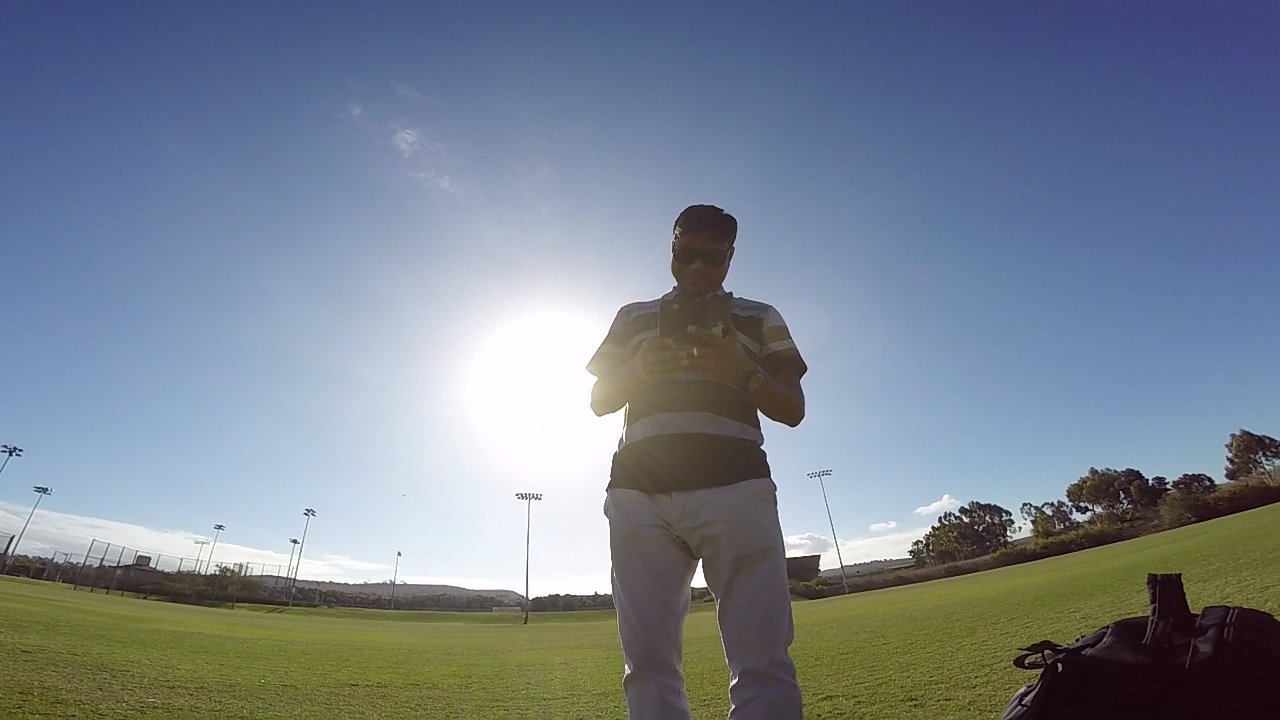person: (576, 188, 808, 715)
